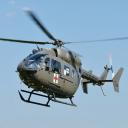helicopter: (1, 12, 126, 109)
